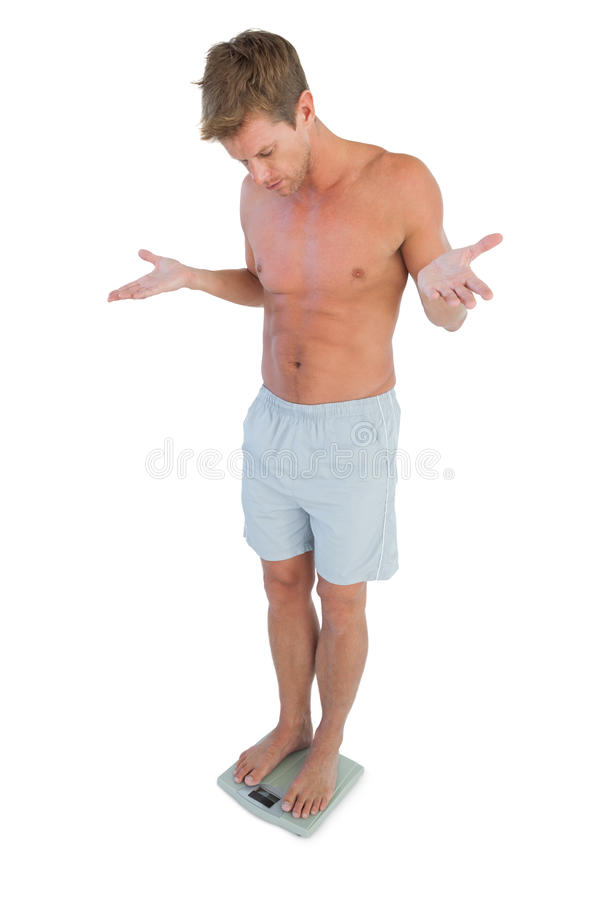confused: (205, 84, 322, 203)
